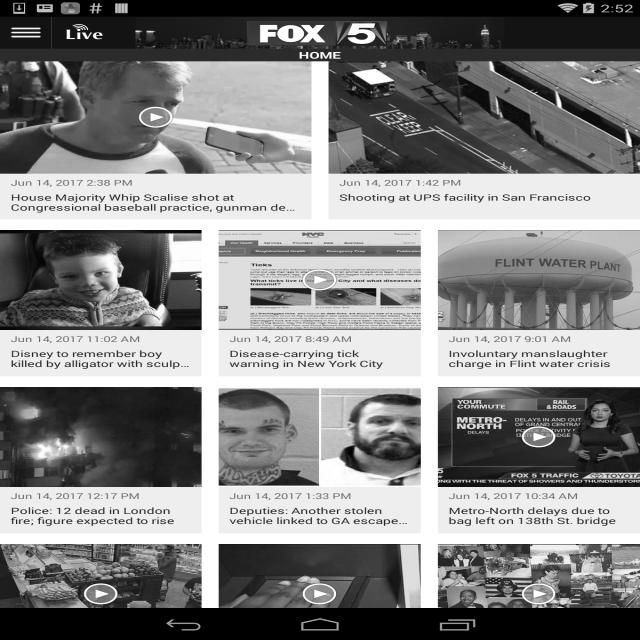ImageView: (0, 61, 316, 174), (324, 61, 640, 174), (213, 230, 427, 330), (213, 387, 427, 487), (432, 230, 640, 330), (432, 387, 640, 487), (0, 230, 207, 330), (0, 387, 207, 487), (213, 544, 427, 640), (432, 544, 640, 640), (0, 544, 207, 640), (59, 16, 581, 48), (238, 16, 289, 48), (0, 16, 51, 48), (58, 16, 109, 48), (238, 580, 289, 608), (136, 106, 175, 130), (300, 268, 339, 292), (519, 425, 558, 449), (300, 582, 339, 606), (519, 582, 558, 606), (82, 582, 120, 606), (252, 114, 273, 128), (252, 143, 273, 157)
TextView: (340, 177, 630, 188), (11, 177, 300, 188), (0, 26, 238, 38), (448, 491, 630, 502), (229, 491, 410, 502), (11, 491, 191, 502), (448, 334, 630, 344), (229, 334, 410, 344), (11, 334, 191, 344), (0, 86, 79, 98), (0, 289, 72, 301), (0, 376, 71, 388), (0, 318, 61, 330), (0, 260, 58, 272), (298, 49, 340, 61), (0, 173, 34, 185), (0, 144, 33, 156), (0, 347, 30, 359), (0, 202, 28, 214), (0, 231, 21, 243), (0, 57, 8, 69), (0, 115, 7, 127)
